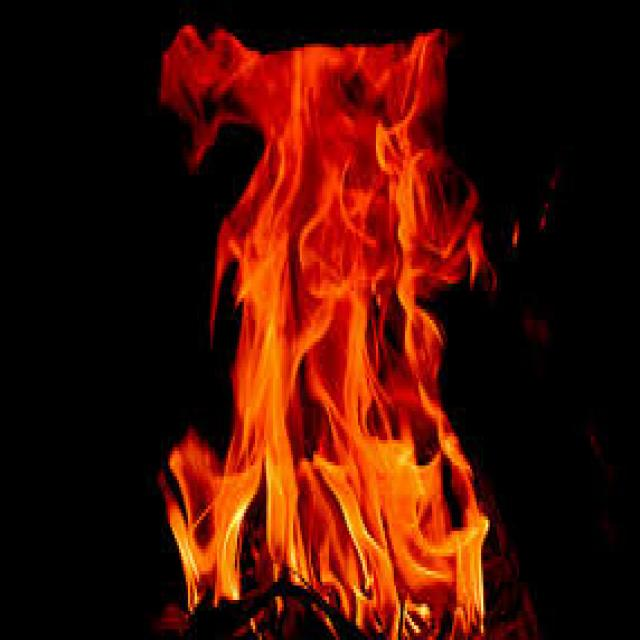fire: (147, 25, 544, 640)
